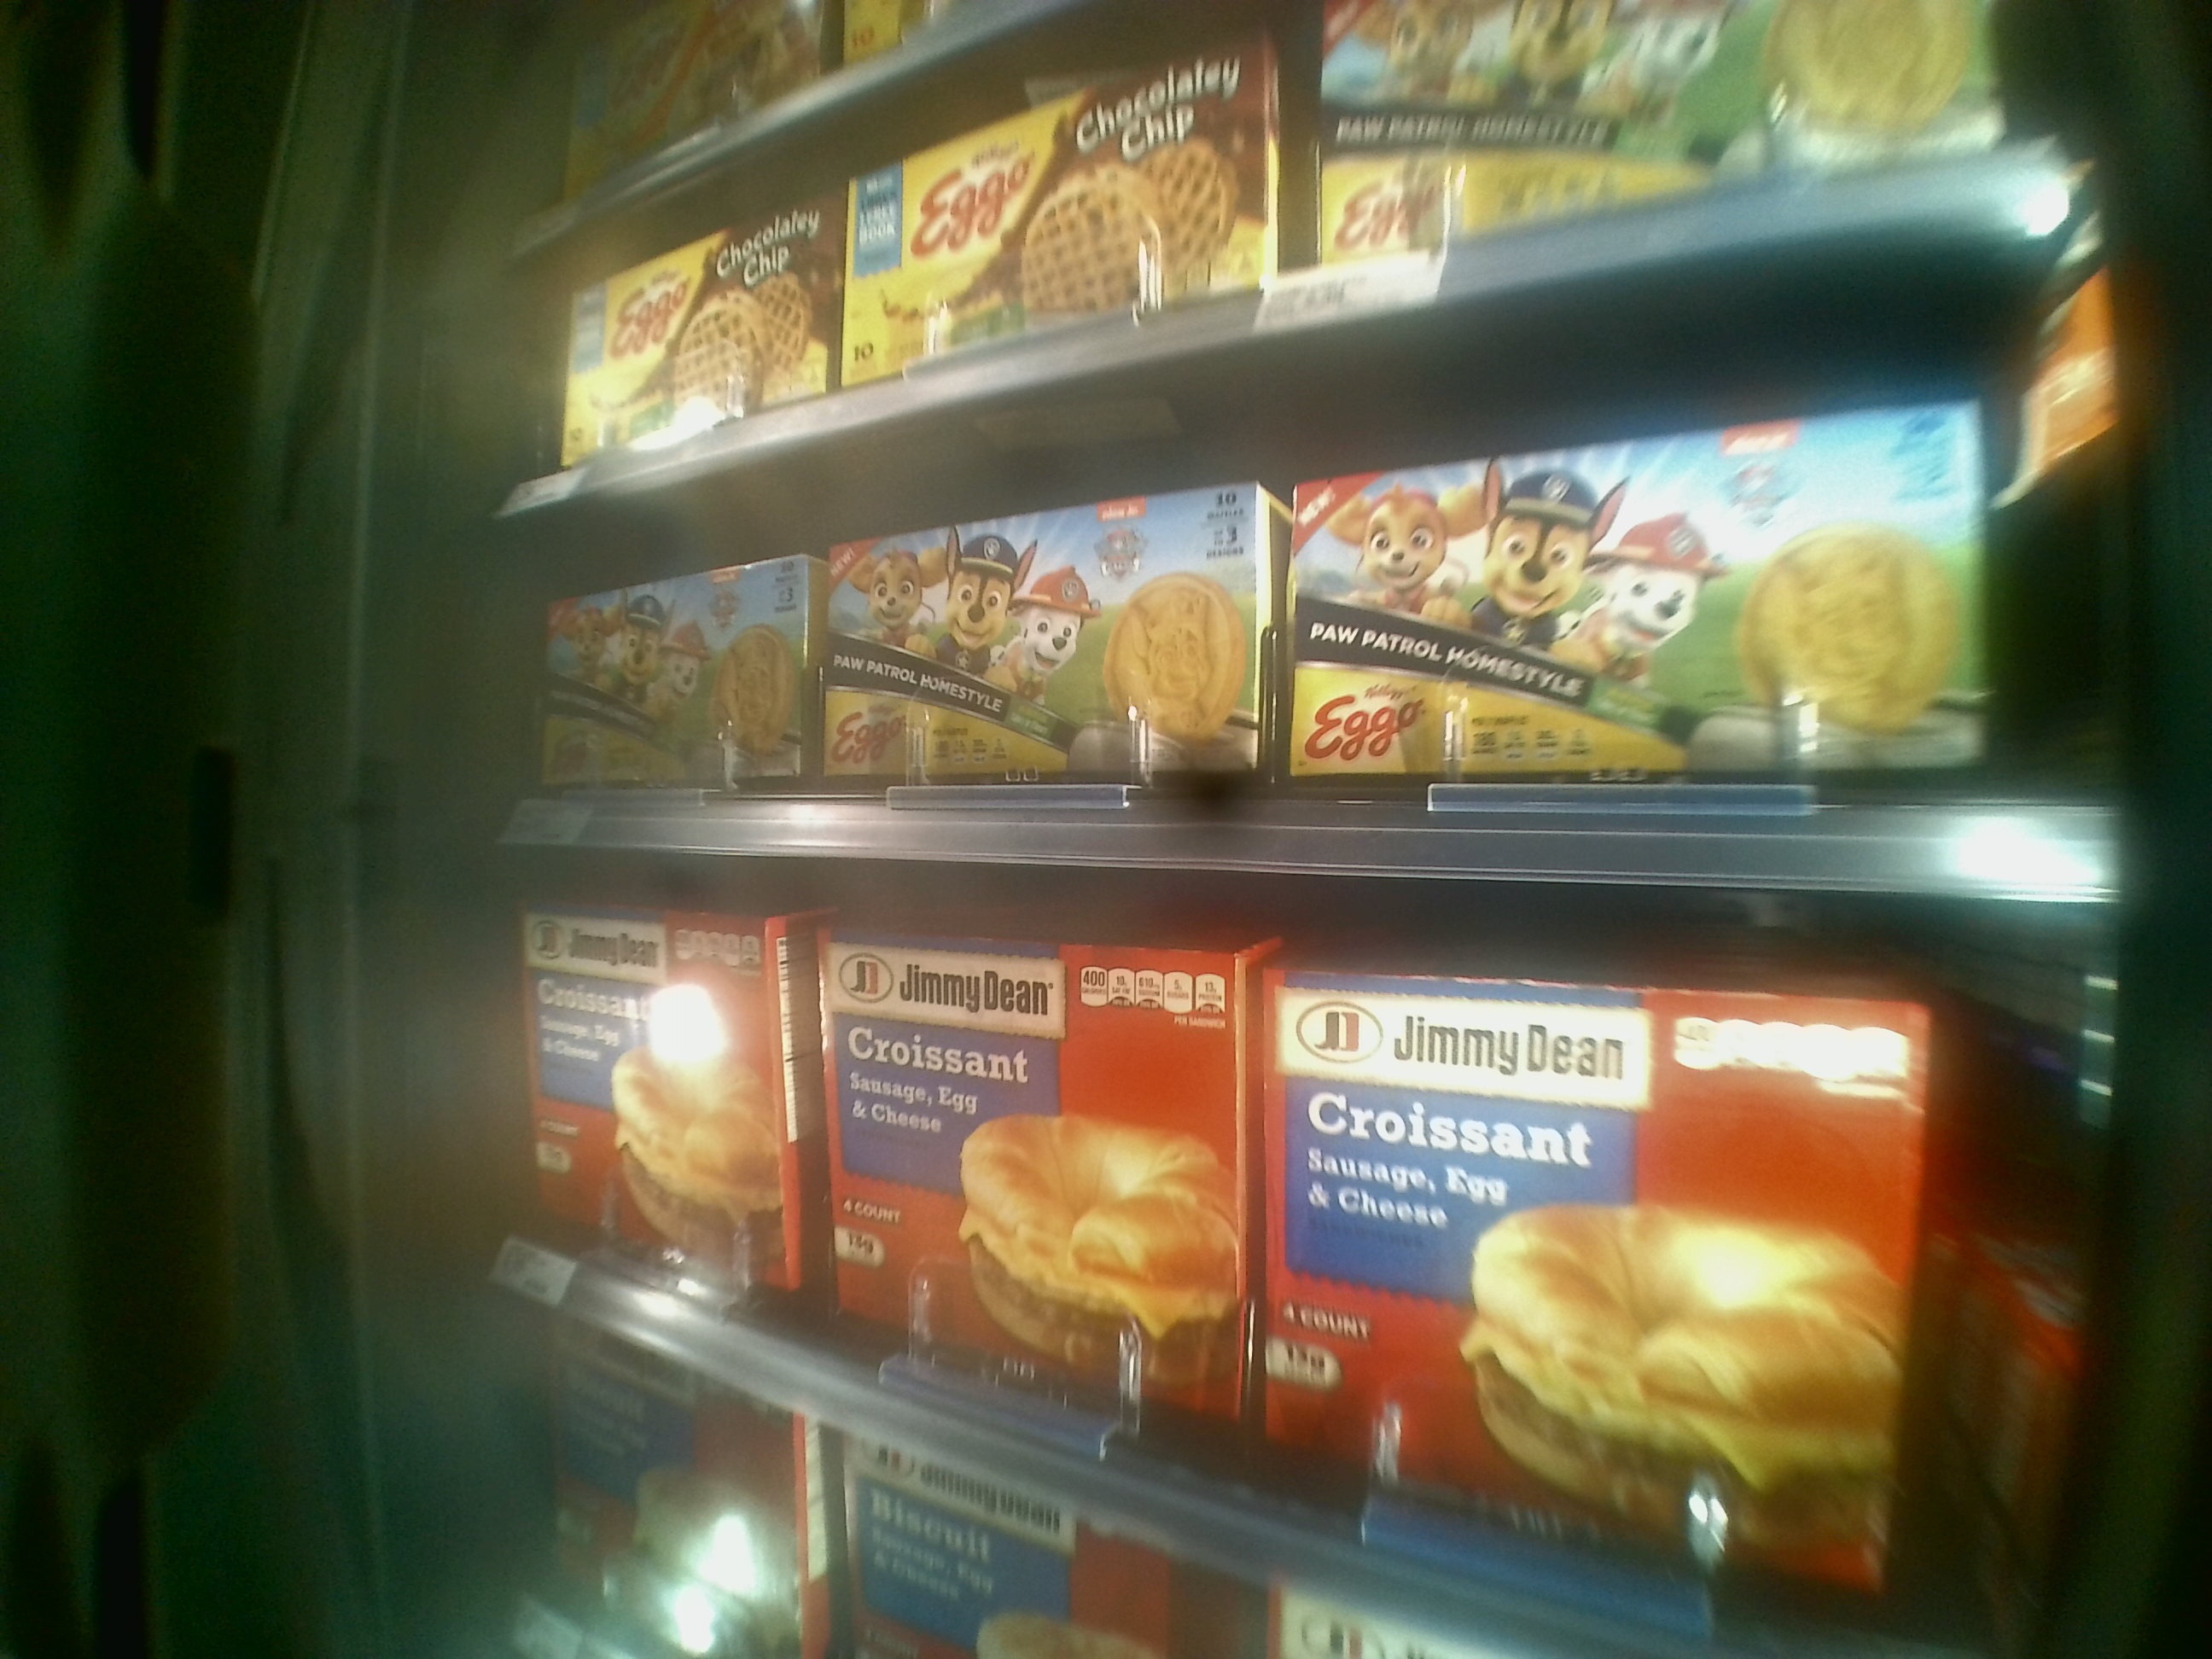shelf: (507, 183, 2092, 906)
